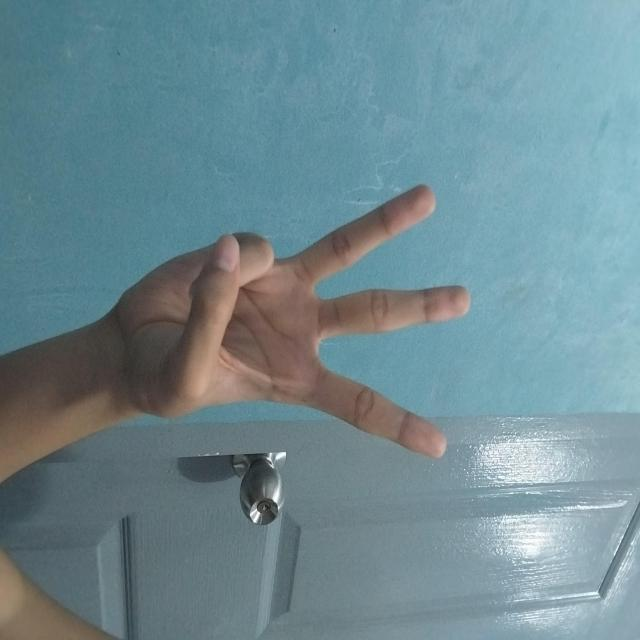W: (185, 166, 459, 518)
